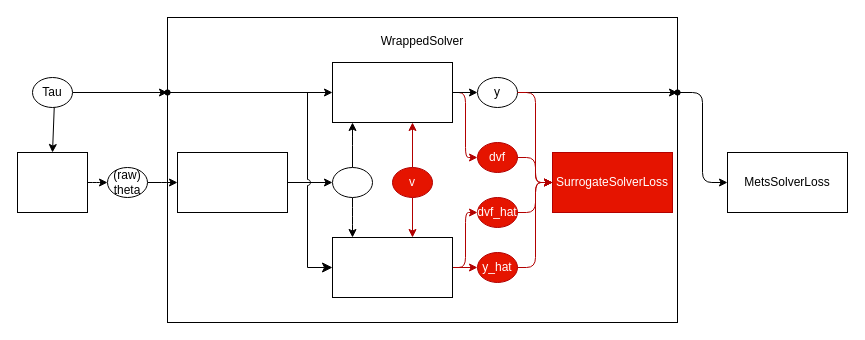
Image size: 865x340. Some labels were removed from this diagram. The shapes that lost their labels are listed below. From the top down, each one's centre as x and y in pixels, then its label:
At (x=392, y=92): "Solver".
At (x=52, y=182): "MetsSolver".
At (x=232, y=182): "ThetaConstructor".
At (x=352, y=182): "theta".
At (x=392, y=267): "SurrogateSolver".
